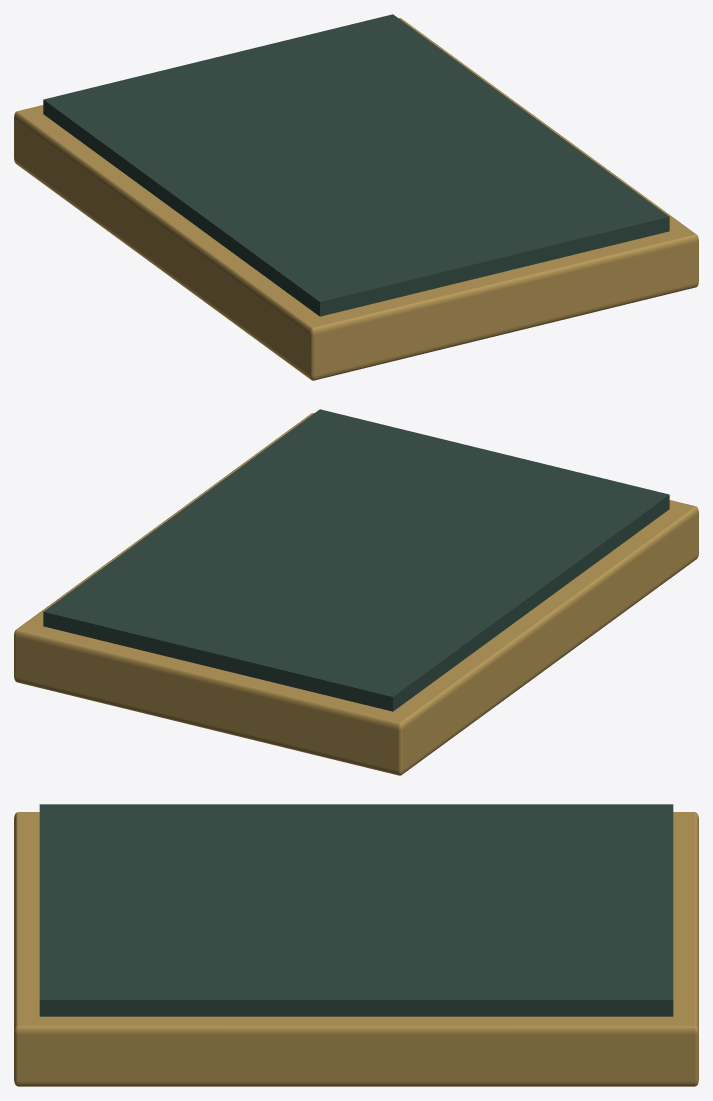
The picture shows the model from 3 angles, top to bottom: view 1: azimuth 30°, elevation 25°; view 2: azimuth 150°, elevation 25°; view 3: azimuth 270°, elevation 25°; orthographic projection. The views are drawn at different scales.
Parts seen in each view (by area): view 1: a-mirror; view 2: a-mirror; view 3: a-mirror.
Part boxes in pixels (left/top/right/bottom): a-mirror: left=14, top=14, right=698, bottom=380; a-mirror: left=14, top=409, right=698, bottom=775; a-mirror: left=14, top=804, right=698, bottom=1086.
Bounding box in the file's own units: 0.15 × 0.025 × 0.2.
